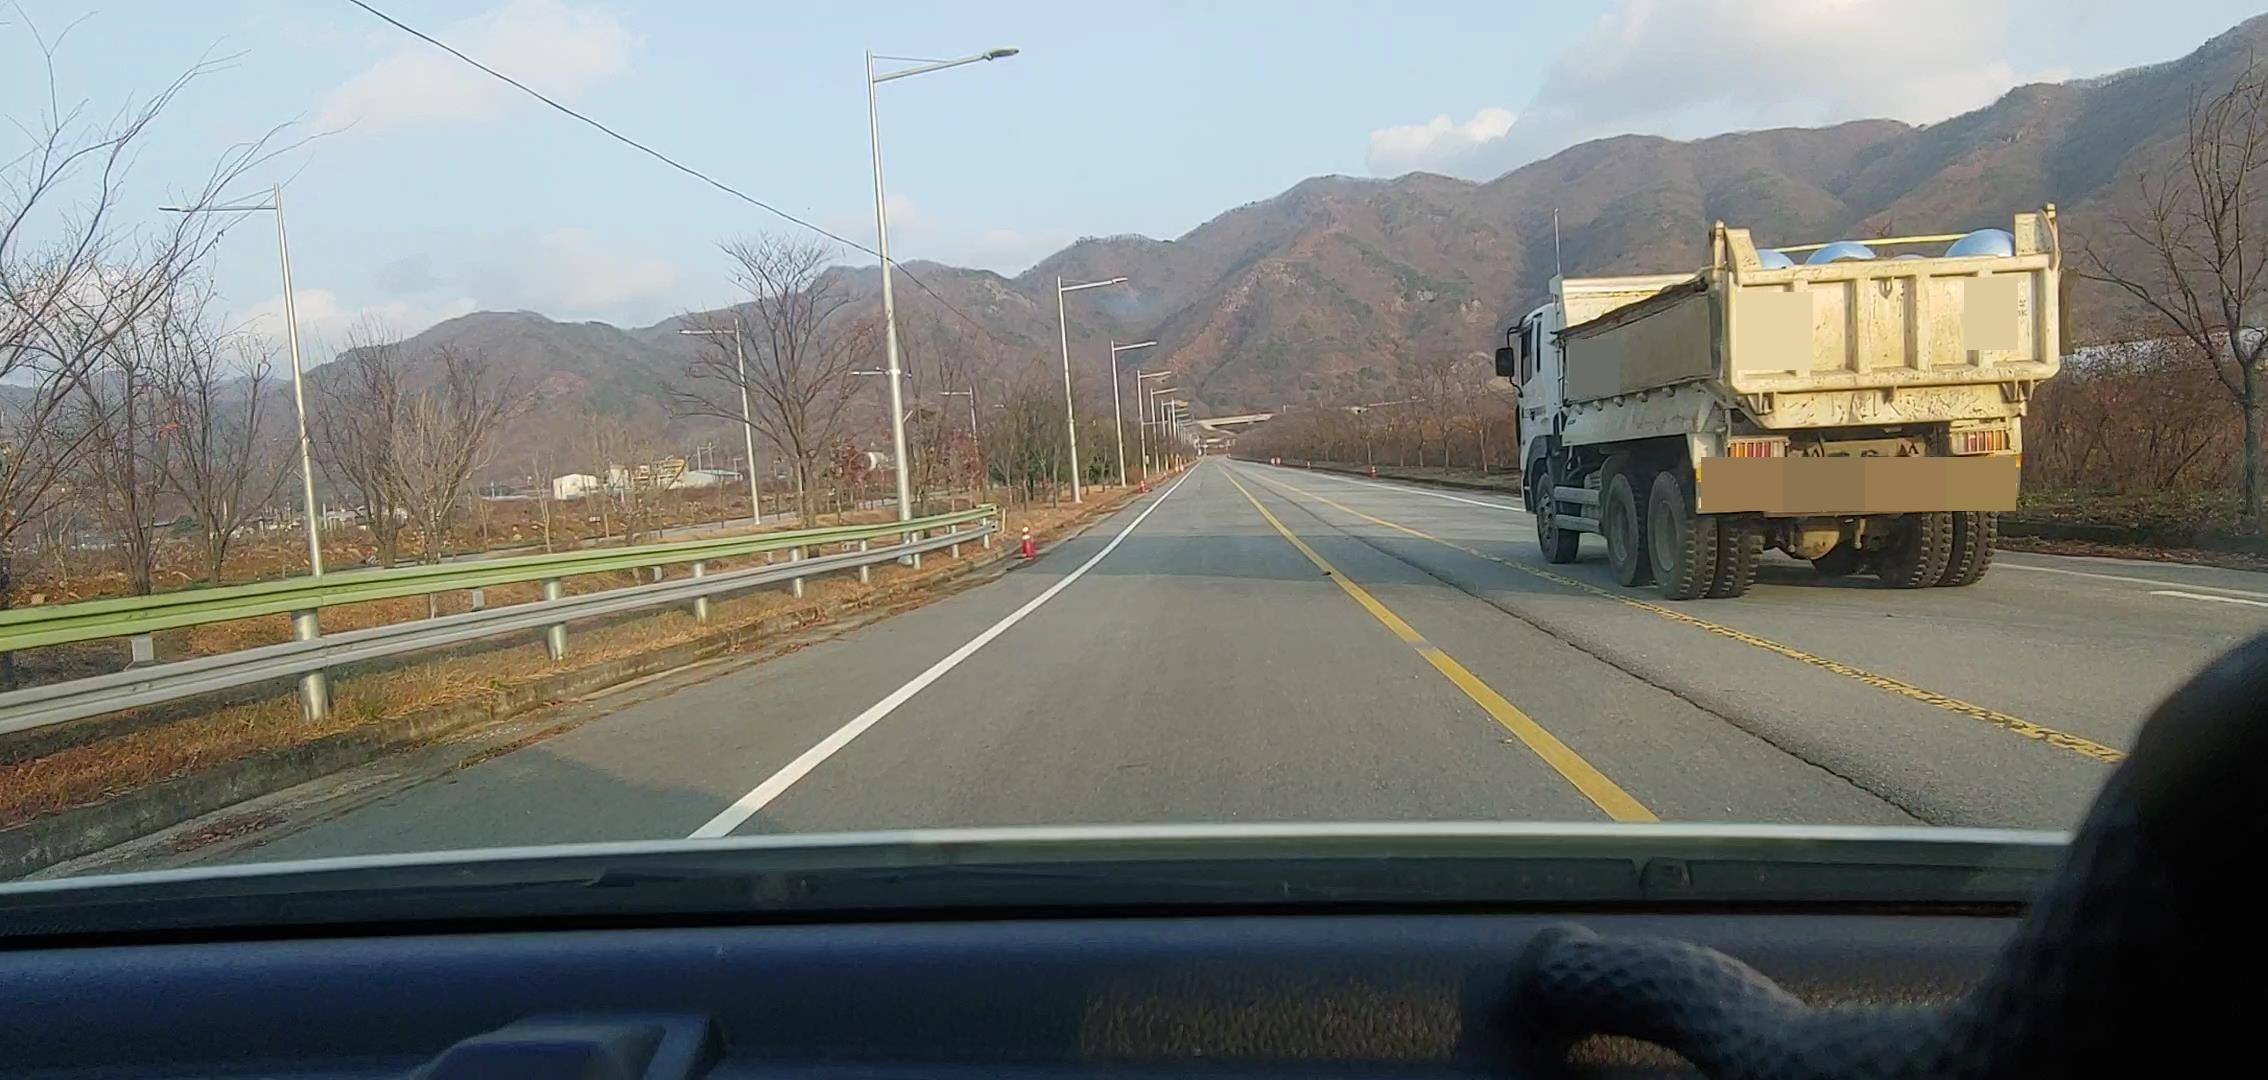불법차량: (1494, 201, 2065, 601)
